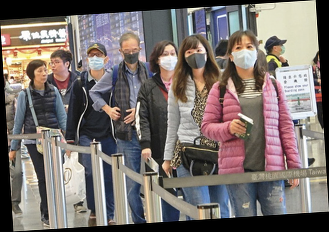with_mask: (232, 41, 259, 71), (184, 46, 208, 71), (158, 48, 178, 72), (121, 48, 141, 66), (87, 51, 105, 71), (276, 42, 287, 55)
without_mask: (34, 67, 49, 84), (49, 59, 63, 75)
